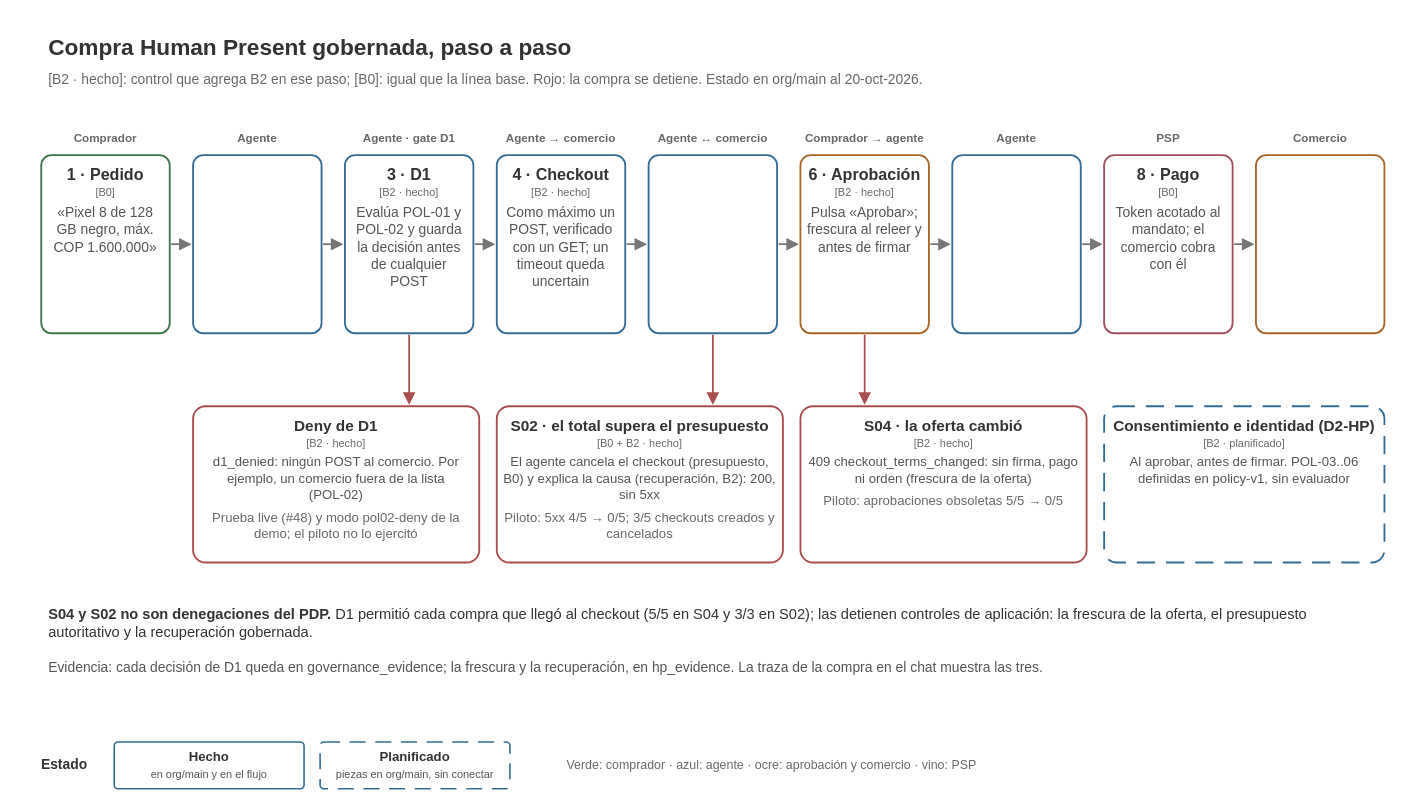
Some shapes in this 1425 by 812 pixel diagram are drawn without their labels. The centre of each missing label's shape, as x and y in pixels:
"2 · Selección [B0] El LLM propone una variante de la lista corta (filtros duros)" goes at pixel 257 244.
"5 · Términos [B2 · hecho] Total final con envío; frescura: la oferta sigue igual" goes at pixel 712 244.
"7 · Firma AP2 [B0] Mandatos de checkout y de pago" goes at pixel 1016 244.
"9 · Orden [B0] Pedido y recibo para el comprador" goes at pixel 1320 244.
